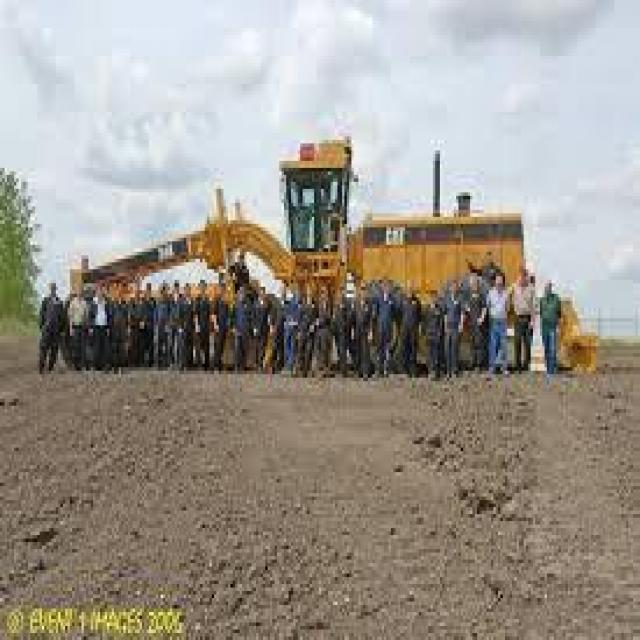Grader: (67, 122, 628, 413)
